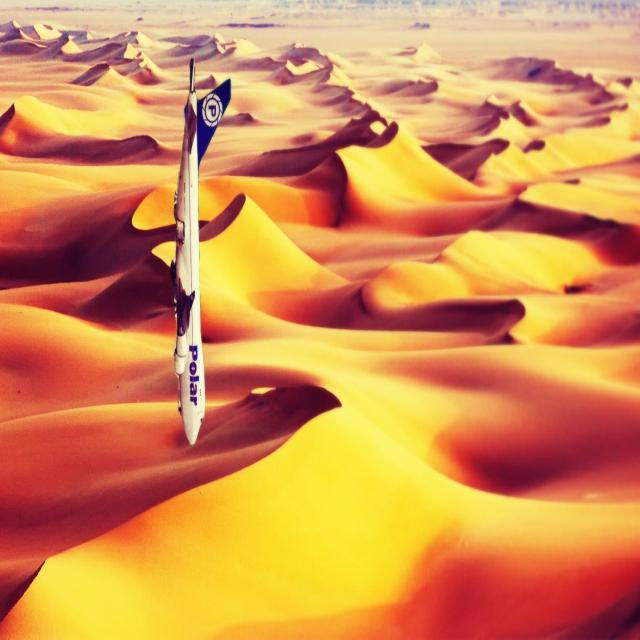airplane: (168, 57, 232, 447)
